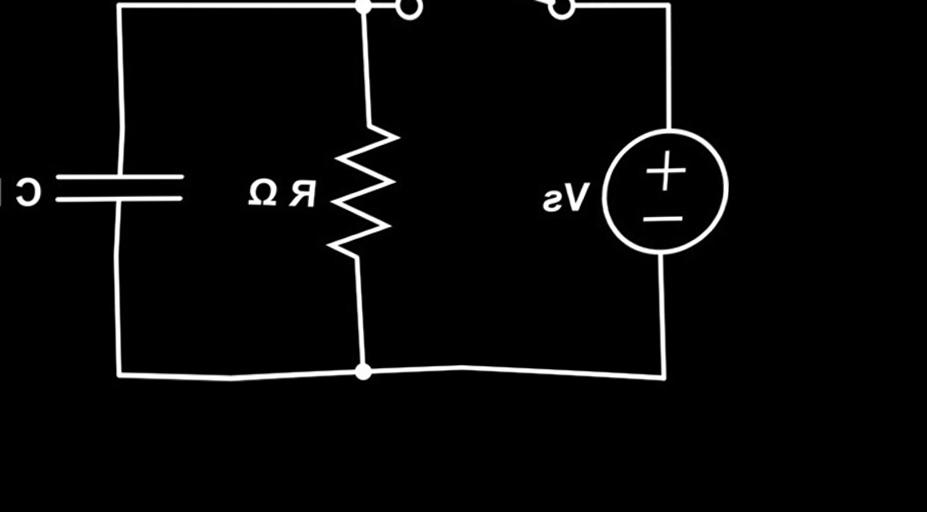Battery: (578, 123, 747, 265)
